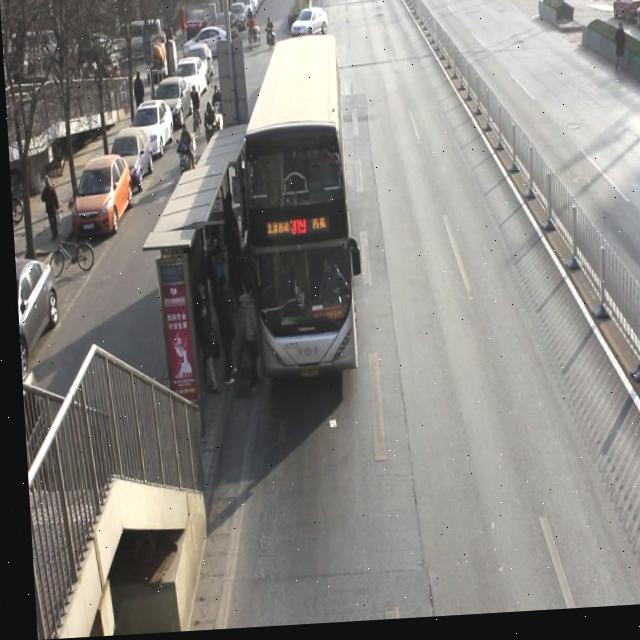car: (289, 11, 327, 39)
van: (238, 45, 355, 384)
